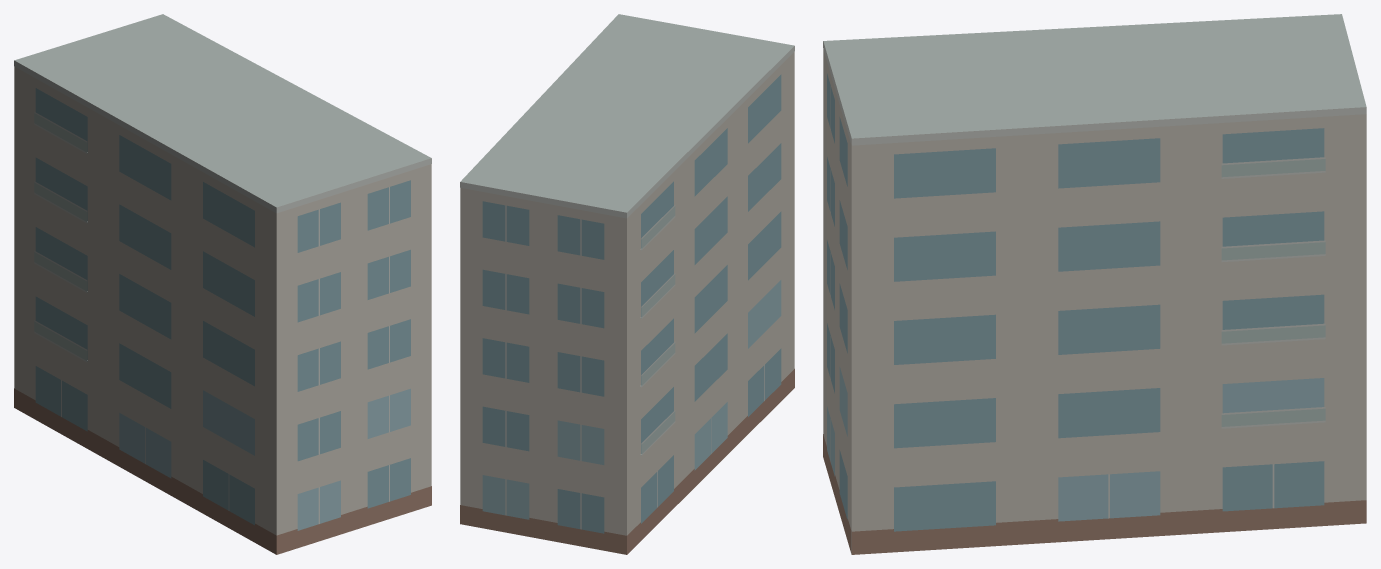
Rendered from survey-upis-32743530.glb.
The picture shows the model from 3 angles, left to right: view 1: azimuth 30°, elevation 25°; view 2: azimuth 150°, elevation 25°; view 3: azimuth 270°, elevation 25°; orthographic projection. The views are drawn at different scales.
Parts seen in each view (by area): view 1: survey-upis-32743530.tmp; view 2: survey-upis-32743530.tmp; view 3: survey-upis-32743530.tmp.
Part boxes in pixels (x1,y1,x2,y2): survey-upis-32743530.tmp: (14,14,431,554); survey-upis-32743530.tmp: (460,14,794,554); survey-upis-32743530.tmp: (823,14,1366,554).
Bounding box in the file's own units: 9.25 × 14.4 × 17.04.
